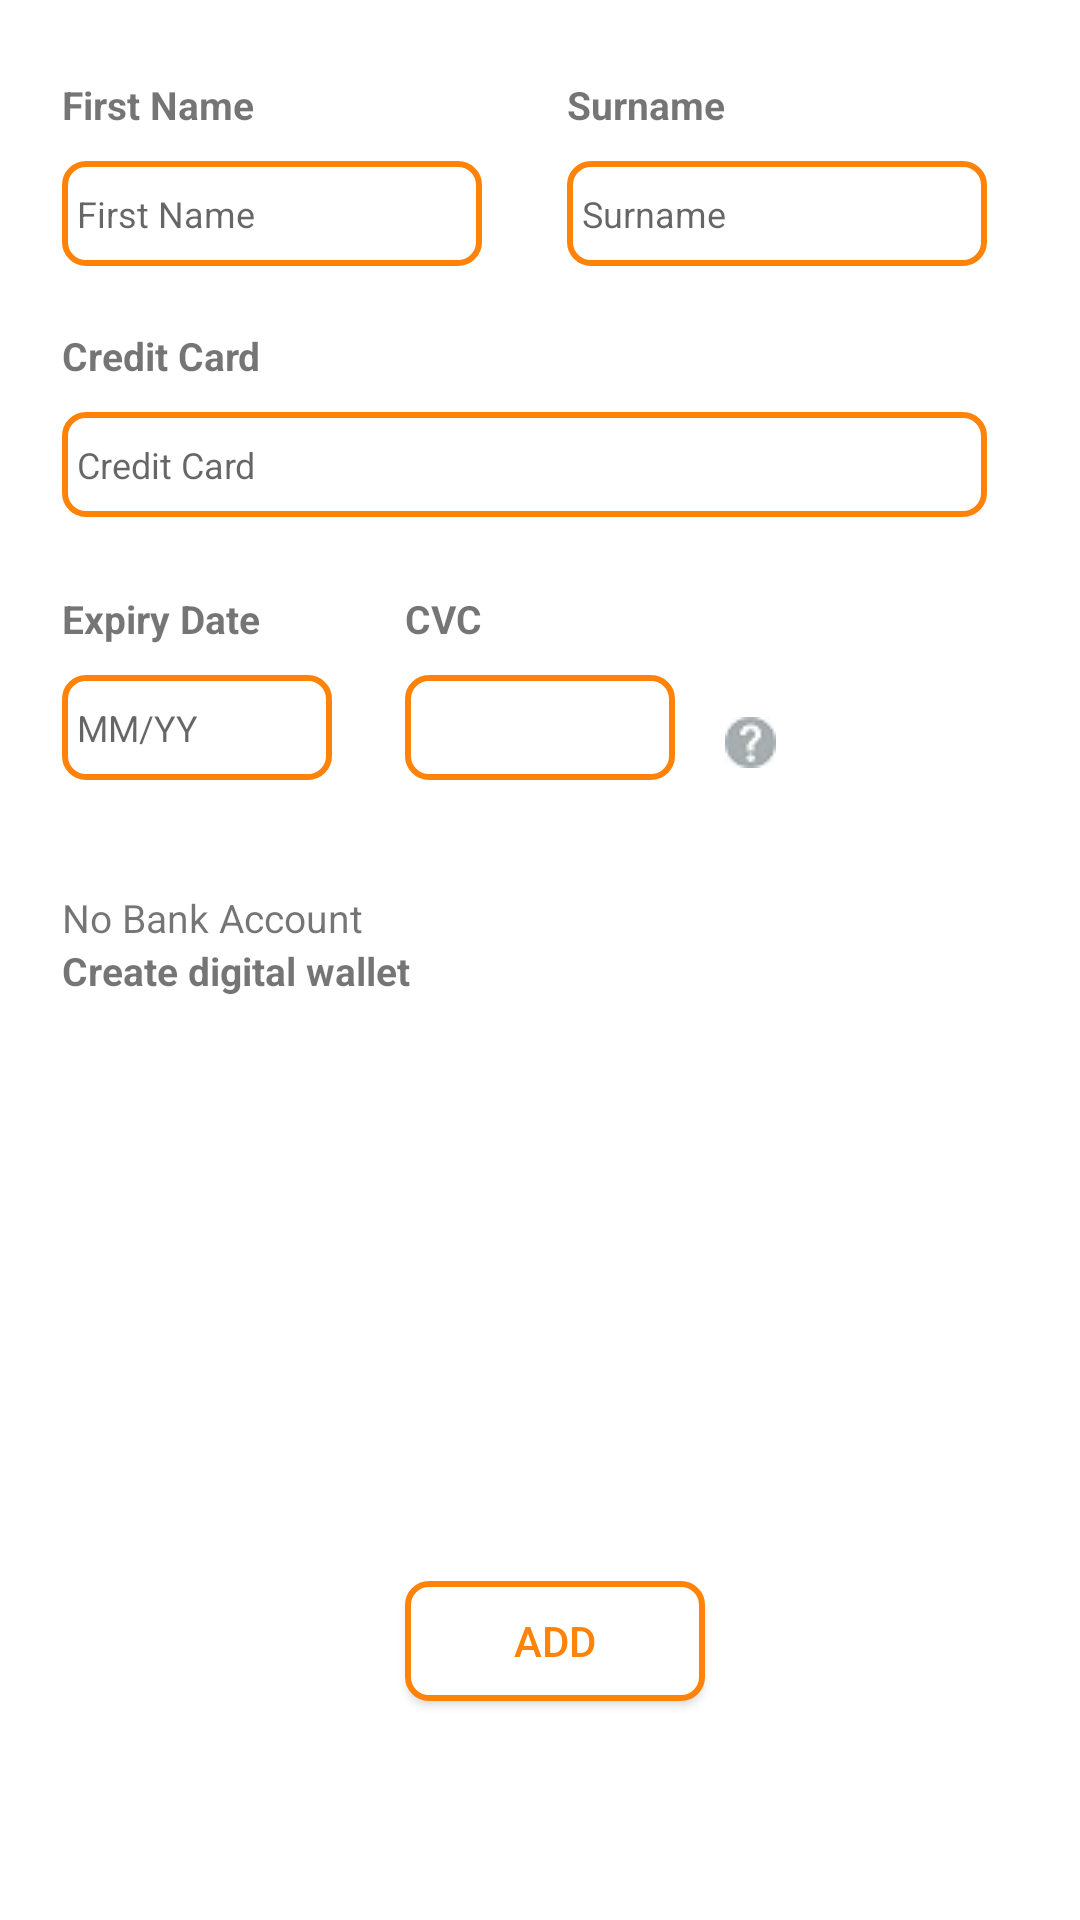

Where icons sit on this 1080×1920 app screen, as BBox(x1, y1, x2, y2):
question mark: BBox(725, 717, 776, 768)
